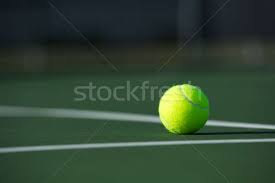tennis_ball: (157, 82, 210, 136)
